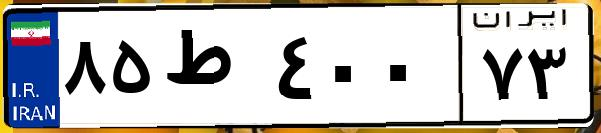0: (385, 28, 445, 110), (330, 28, 385, 110)
3: (525, 38, 570, 115)
4: (270, 28, 330, 110)
5: (110, 28, 158, 98)
7: (475, 38, 525, 113)
8: (57, 26, 110, 100)
ط: (158, 20, 270, 120)
